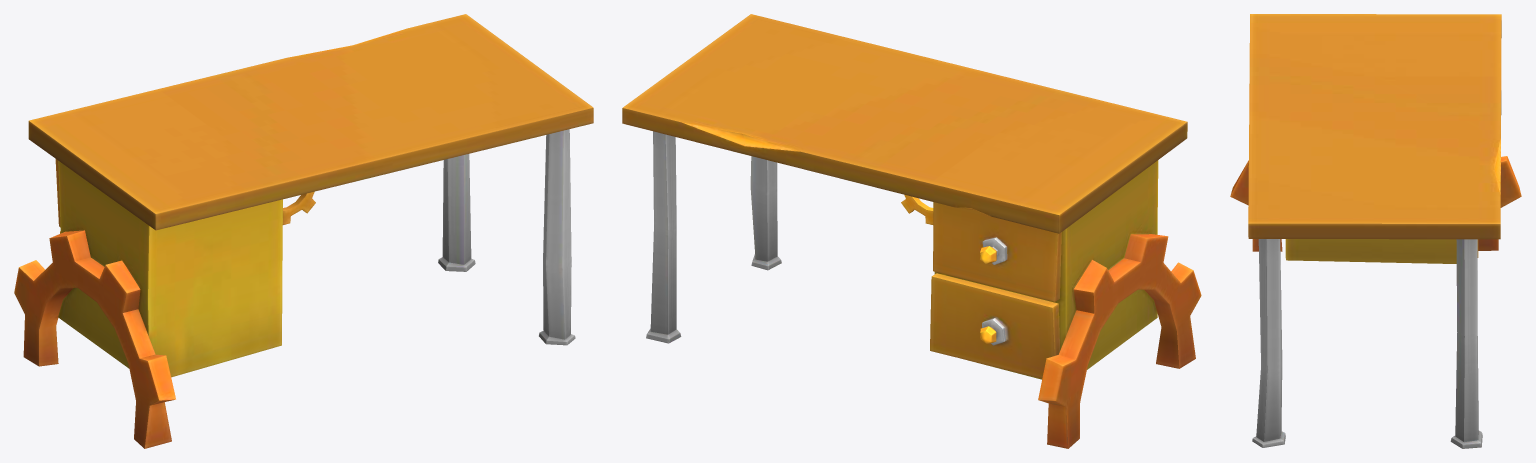
Rendered from obj_table01_base.gltf.
3 views of the same model, side by side, from view 1: azimuth 30°, elevation 25°; view 2: azimuth 150°, elevation 25°; view 3: azimuth 270°, elevation 25° (orthographic).
Parts seen in each view (by area): view 1: obj_table01_base; view 2: obj_table01_base; view 3: obj_table01_base.
Part boxes in pixels (box(x1,y1,x2,y2)): obj_table01_base: box(14, 14, 593, 448); obj_table01_base: box(622, 14, 1201, 448); obj_table01_base: box(1230, 14, 1521, 448).
Size of what is drawn, in the model's own units: 2.05 by 1.03 by 1.17.
1 material, 1 textured.
